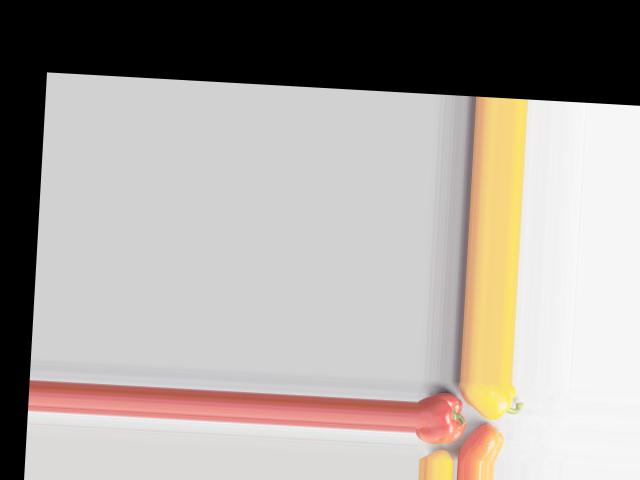bell_pepper: (416, 387, 466, 444)
